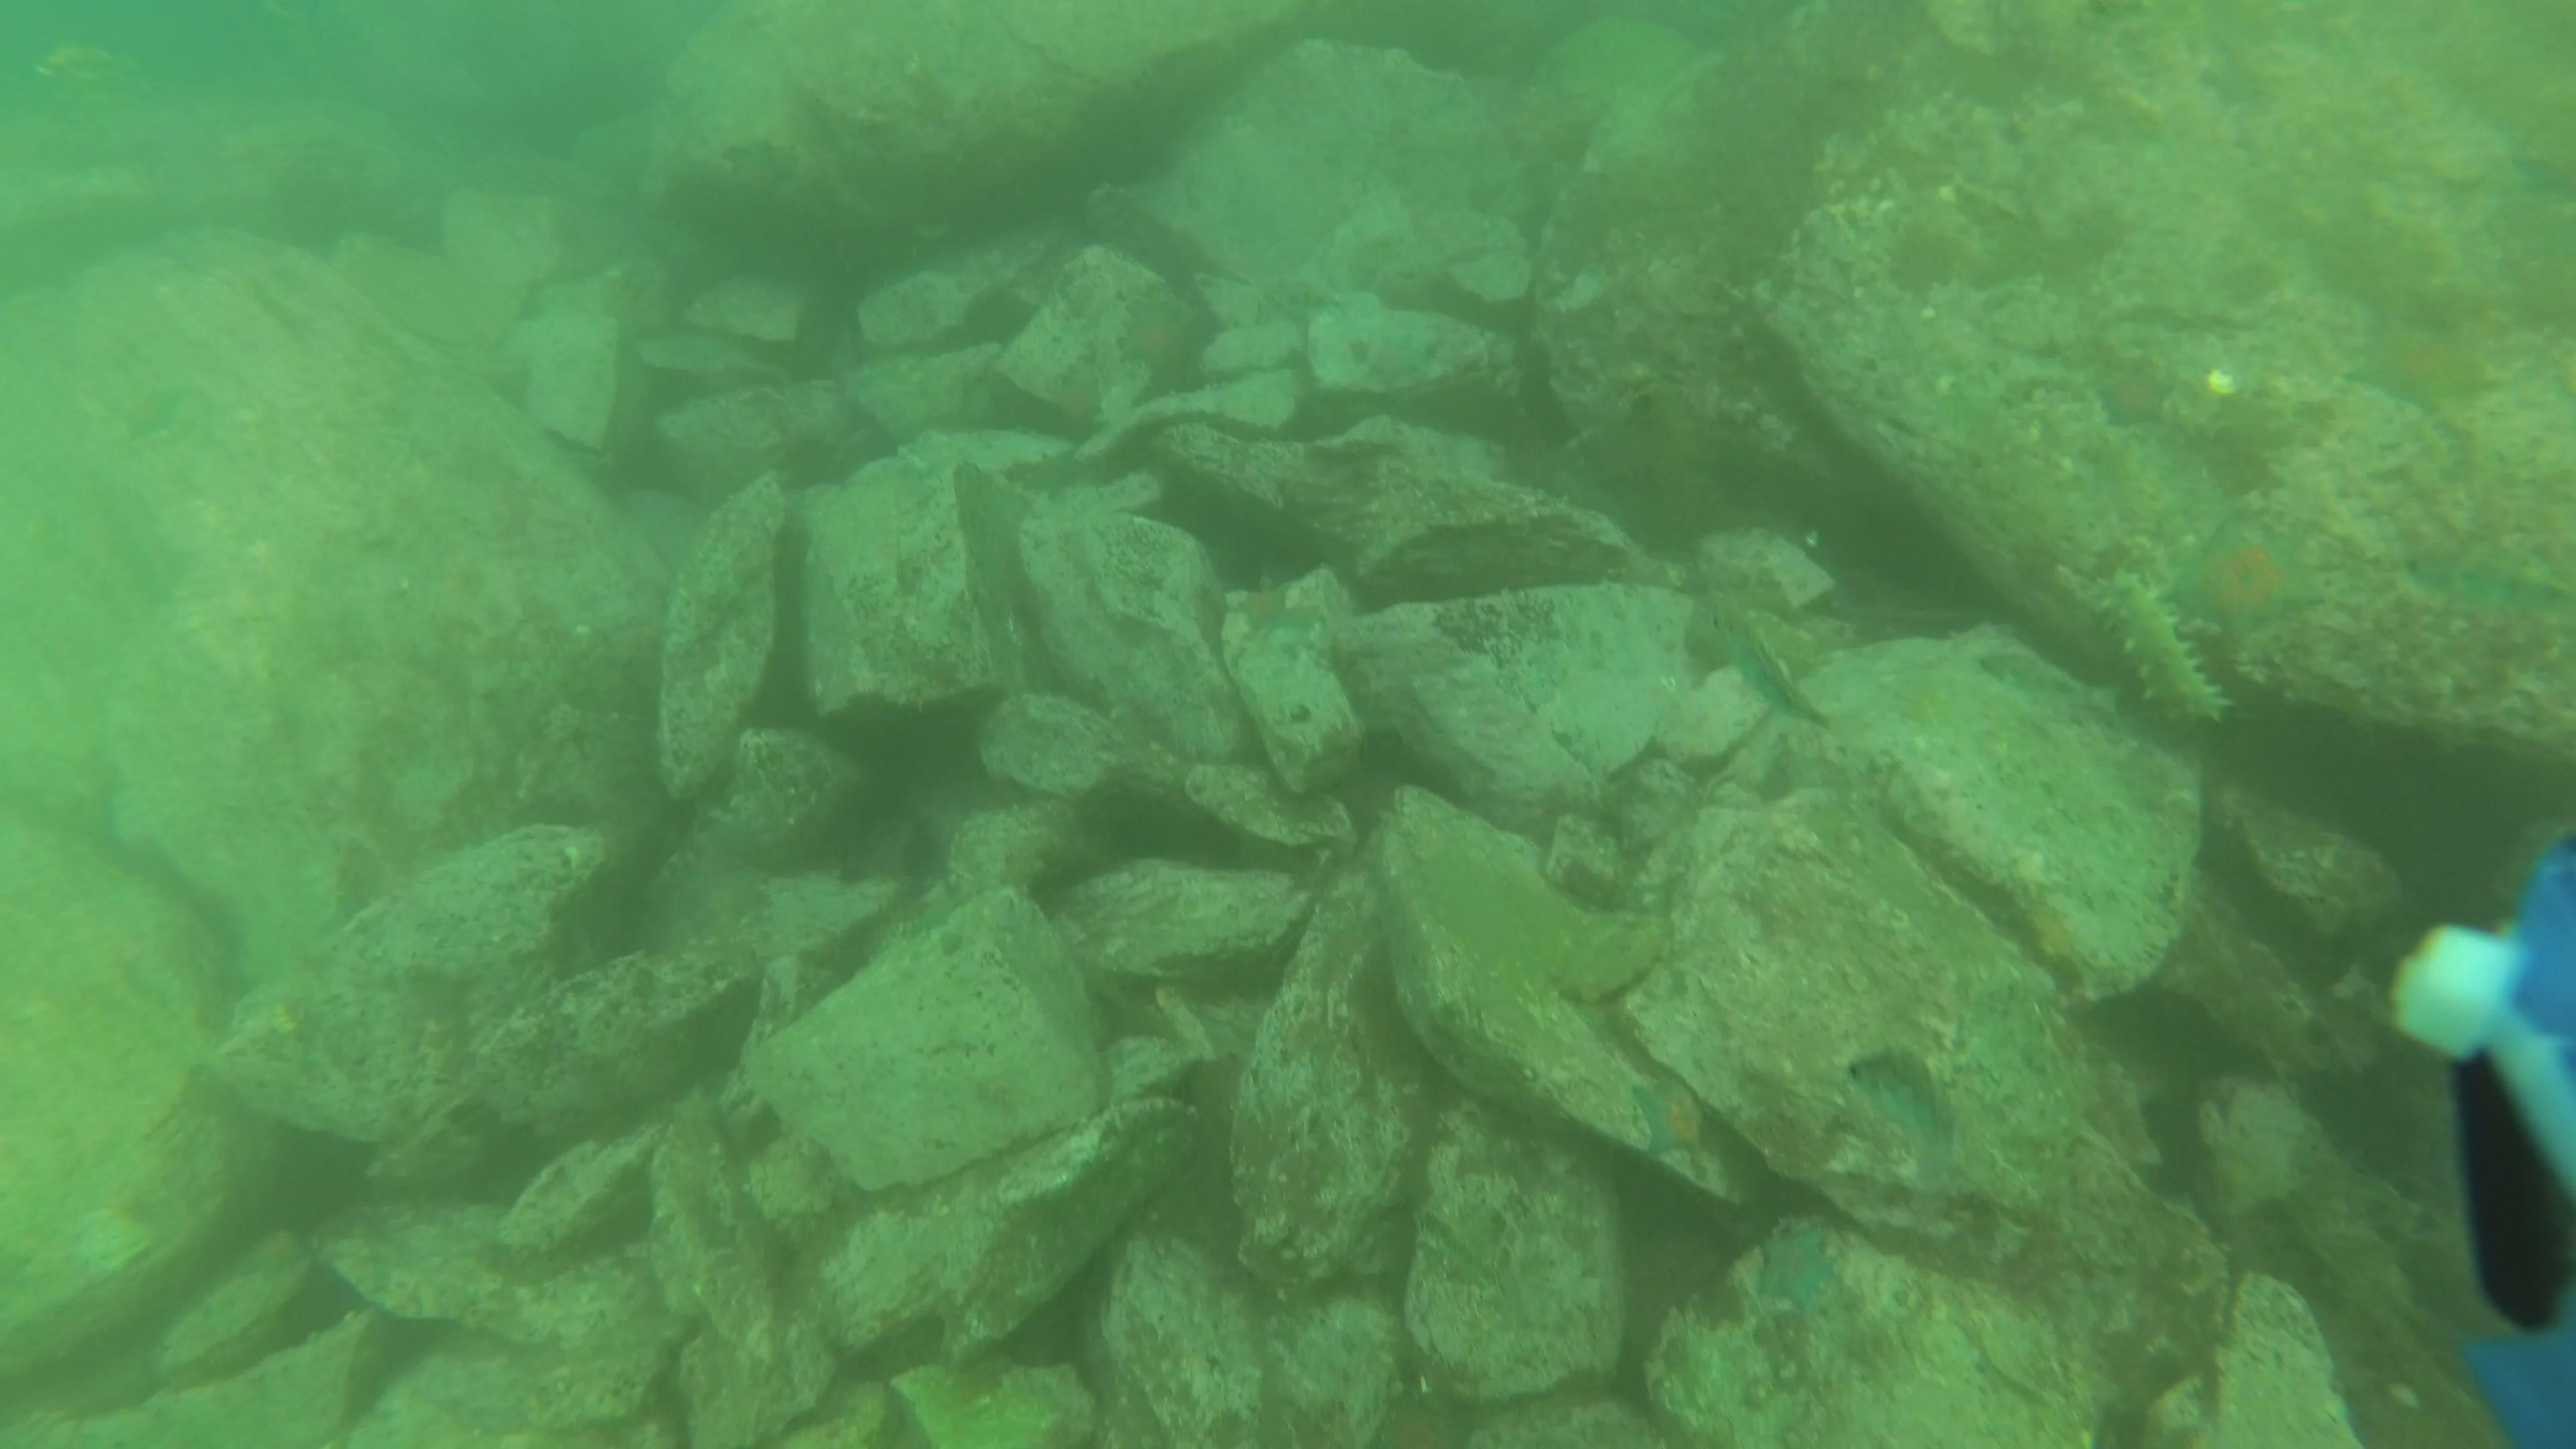holothurian: (2074, 568, 2240, 731)
starfish: (2164, 513, 2332, 648), (2335, 318, 2509, 416), (1750, 1219, 1845, 1316), (1624, 1074, 1713, 1168), (1113, 288, 1194, 377), (2091, 364, 2181, 433), (1040, 373, 1113, 441)
